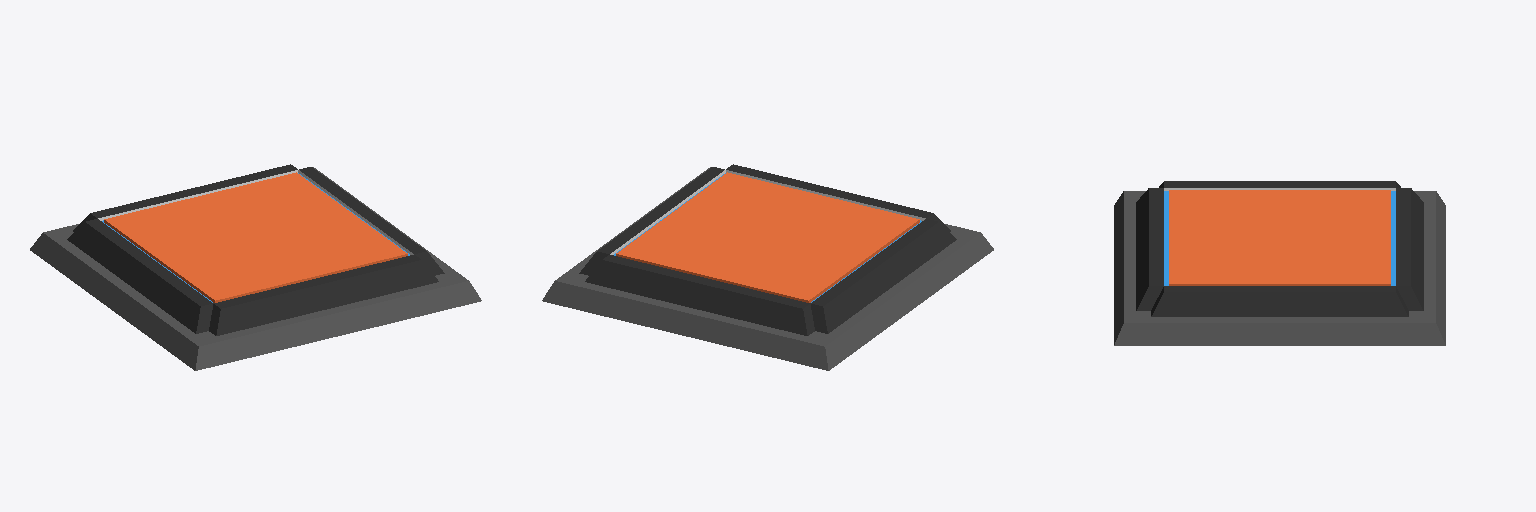
3 renders of one model, left to right at view 1: azimuth 30°, elevation 25°; view 2: azimuth 150°, elevation 25°; view 3: azimuth 270°, elevation 25°, orthographic.
Parts seen in each view (by area): view 1: Cube_Cube.003; view 2: Cube_Cube.003; view 3: Cube_Cube.003.
Part boxes in pixels (x1,y1,x2,y2): Cube_Cube.003: (30,164,481,370); Cube_Cube.003: (542,164,993,370); Cube_Cube.003: (1114,181,1445,345).
Size of the model in its own units: 43.39 by 5.62 by 43.39.
Materials: 1 (1 with a texture image).